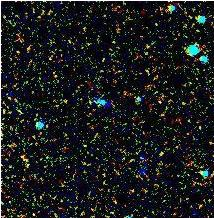star: (10, 143, 40, 173)
